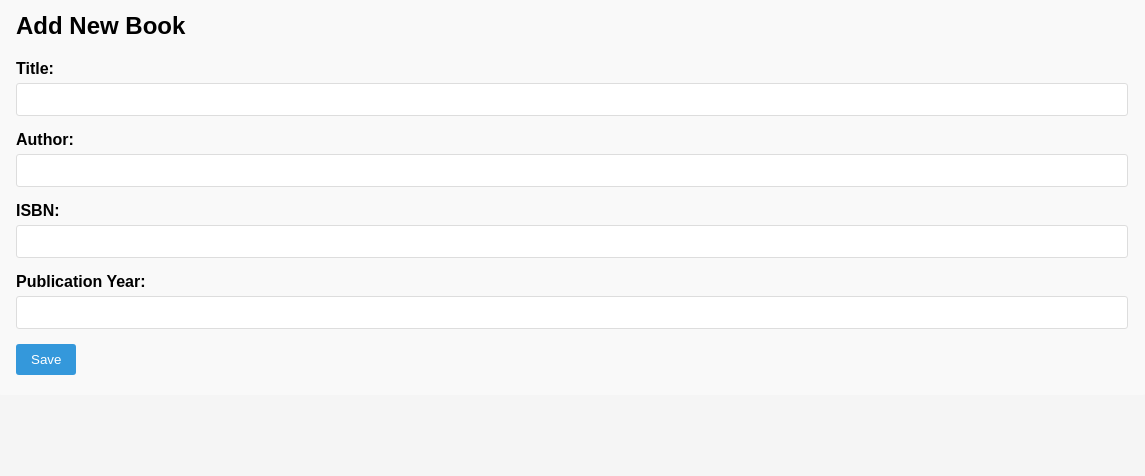
BookForm › shows validation errors on empty submit
Click the button "Save". click: (46, 359)
box: [16,344,76,375]
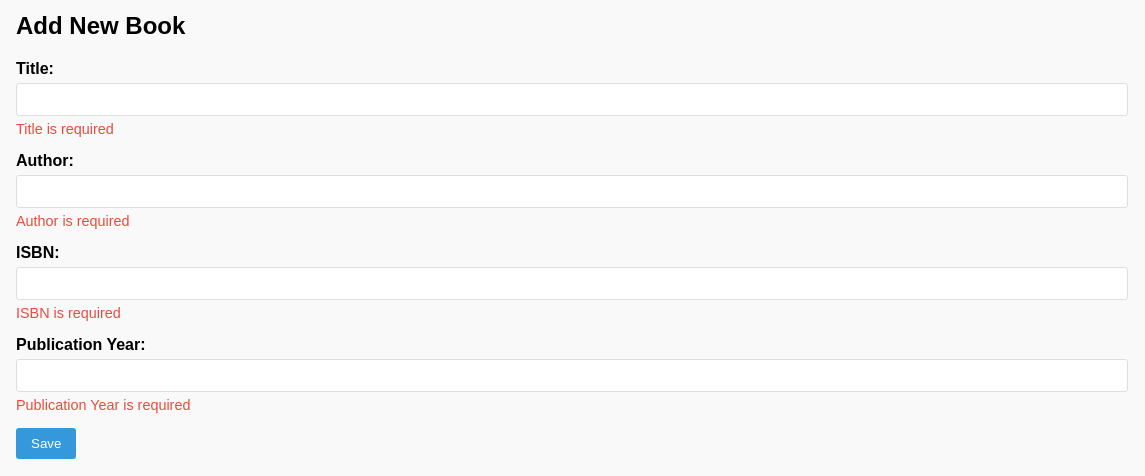
Expected: the text "Title is required" is shown, [16,121,114,137]
Expected: the text "Author is required" is shown, [16,213,130,229]
Expected: the text "ISBN is required" is shown, [16,305,121,321]
